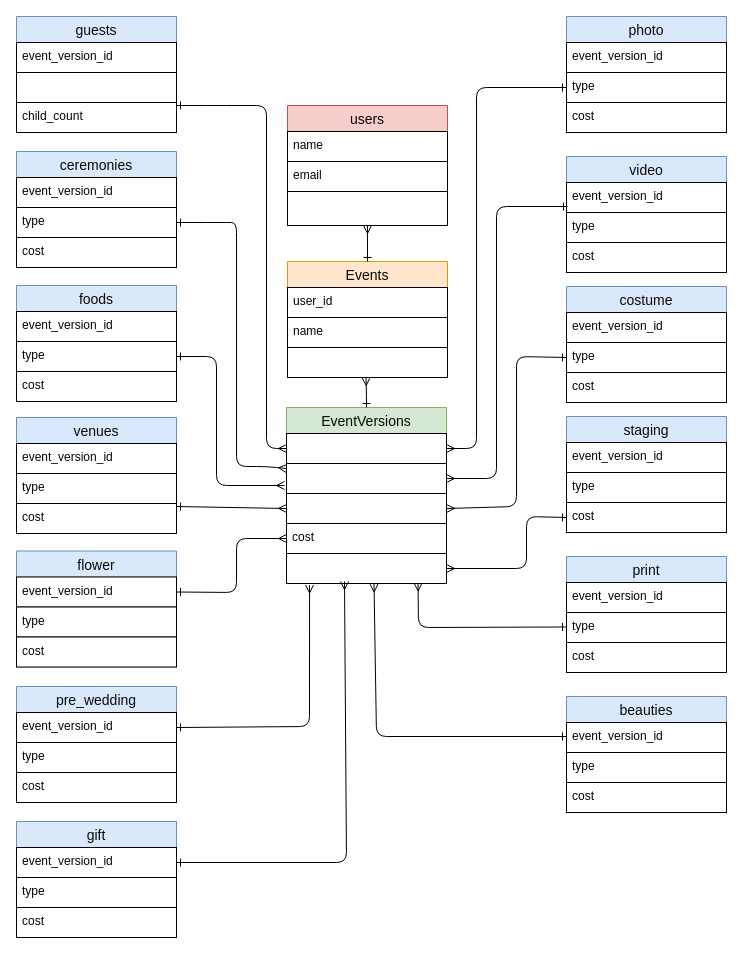
Image size: 743x954. Some labels were removed from this diagram. The shapes that lost their labels are listed below. From the top down, each one's centre as x and y in pixels, then its label:
At point 96,87: "adult_count".
At point 367,208: "encrypted_password".
At point 367,362: "event_date".
At point 366,448: "event_id".
At point 366,478: "version_number".
At point 366,508: "details".
At point 366,568: "input_date".
